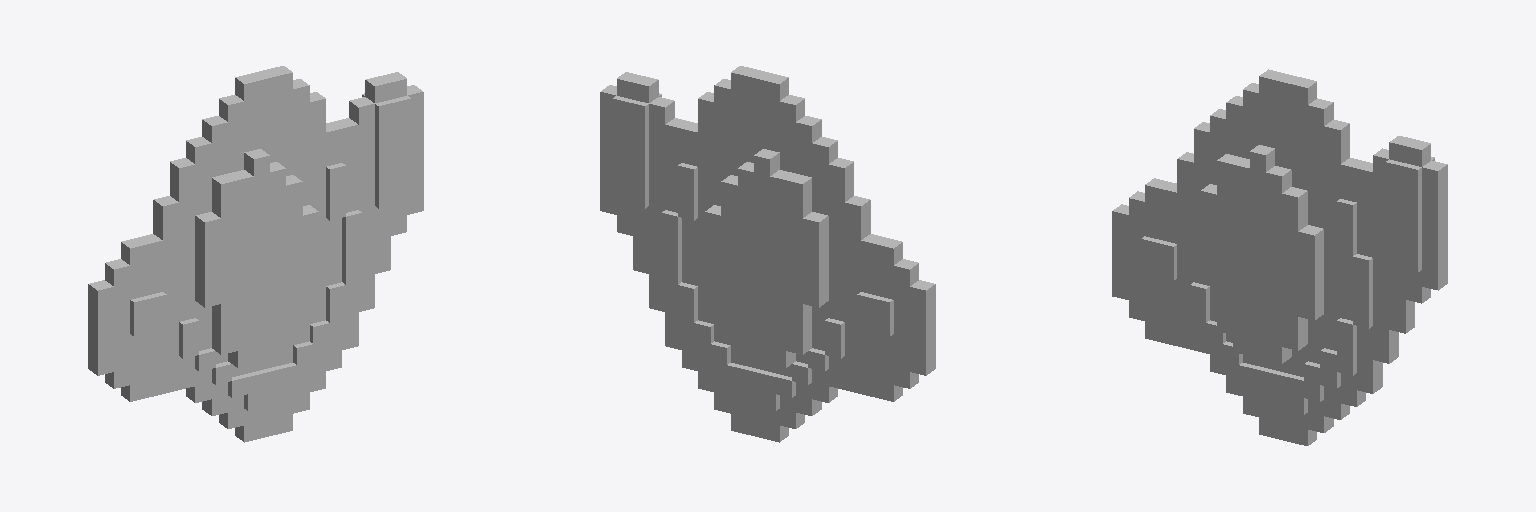
Rendered from deathShard.obj.
3 views of the same model, side by side, from view 1: azimuth 30°, elevation 25°; view 2: azimuth 150°, elevation 25°; view 3: azimuth 330°, elevation 25° (orthographic).
Visible parts, largest first — view 1: deathShard; view 2: deathShard; view 3: deathShard.
Boxes of the visible parts, box(x1,y1,x2,y2) form: deathShard: box(88, 66, 423, 442); deathShard: box(600, 66, 935, 442); deathShard: box(1112, 69, 1447, 445).
Bounding box in the file's own units: 0.625 × 0.6562 × 0.0938.